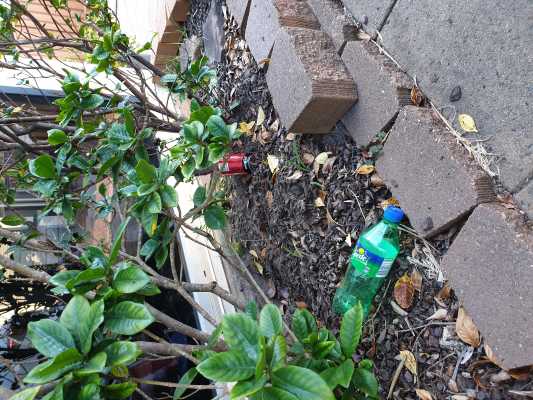Plastic Bottle: (331, 205, 404, 322), (218, 153, 255, 175)
